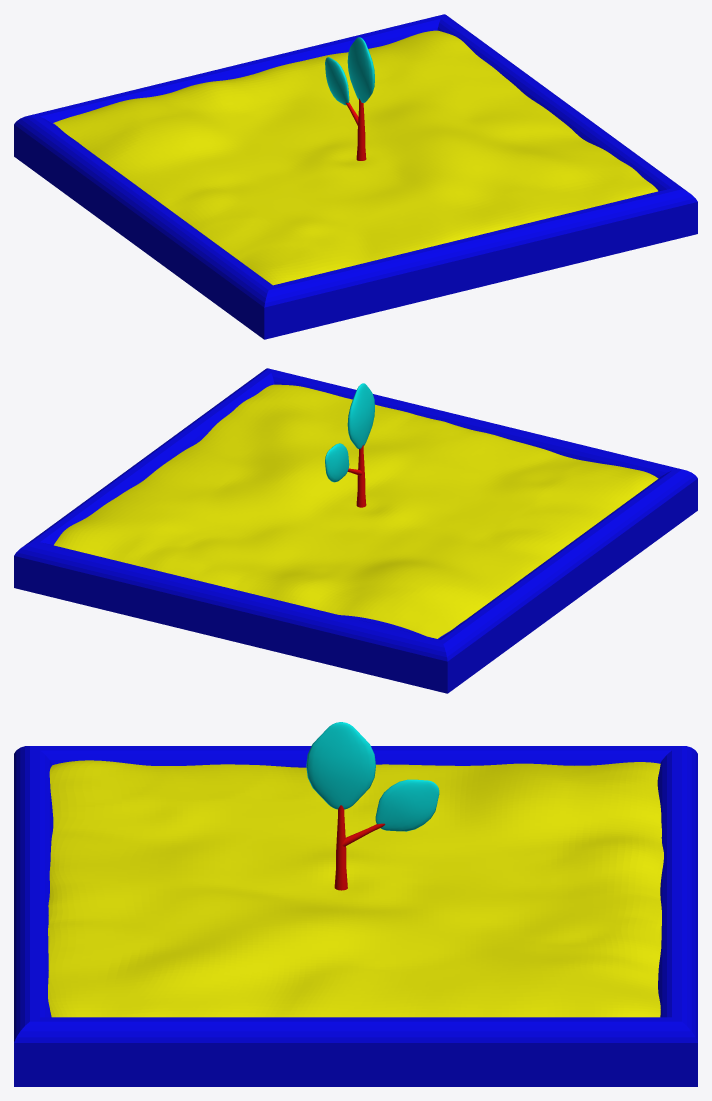
File: Stage_3.fbx
The picture shows the model from 3 angles, top to bottom: view 1: azimuth 30°, elevation 25°; view 2: azimuth 150°, elevation 25°; view 3: azimuth 270°, elevation 25°; orthographic projection. The views are drawn at different scales.
Visible parts, largest first — view 1: pasted__pasted__Bed_HPdirt, pasted__pasted__baseBed_HP, Leaf_1, Leaf_2, Stem; view 2: pasted__pasted__Bed_HPdirt, pasted__pasted__baseBed_HP, Leaf_1, Leaf_2, Stem; view 3: pasted__pasted__Bed_HPdirt, pasted__pasted__baseBed_HP, Leaf_1, Leaf_2, Stem.
Boxes of the visible parts, x1,y1,x2,y2 form: pasted__pasted__Bed_HPdirt: [53, 30, 657, 285]; pasted__pasted__baseBed_HP: [14, 14, 697, 339]; Leaf_1: [347, 37, 374, 102]; Leaf_2: [325, 57, 349, 105]; Stem: [345, 98, 366, 160]; pasted__pasted__Bed_HPdirt: [54, 384, 658, 638]; pasted__pasted__baseBed_HP: [14, 368, 697, 693]; Leaf_1: [347, 383, 374, 448]; Leaf_2: [325, 443, 349, 482]; Stem: [347, 445, 366, 507]; pasted__pasted__Bed_HPdirt: [48, 760, 663, 1017]; pasted__pasted__baseBed_HP: [14, 746, 697, 1086]; Leaf_1: [306, 722, 375, 809]; Leaf_2: [375, 779, 439, 831]; Stem: [334, 805, 385, 890].
Size of the model in its own units: 4.24 by 1.51 by 4.24.
